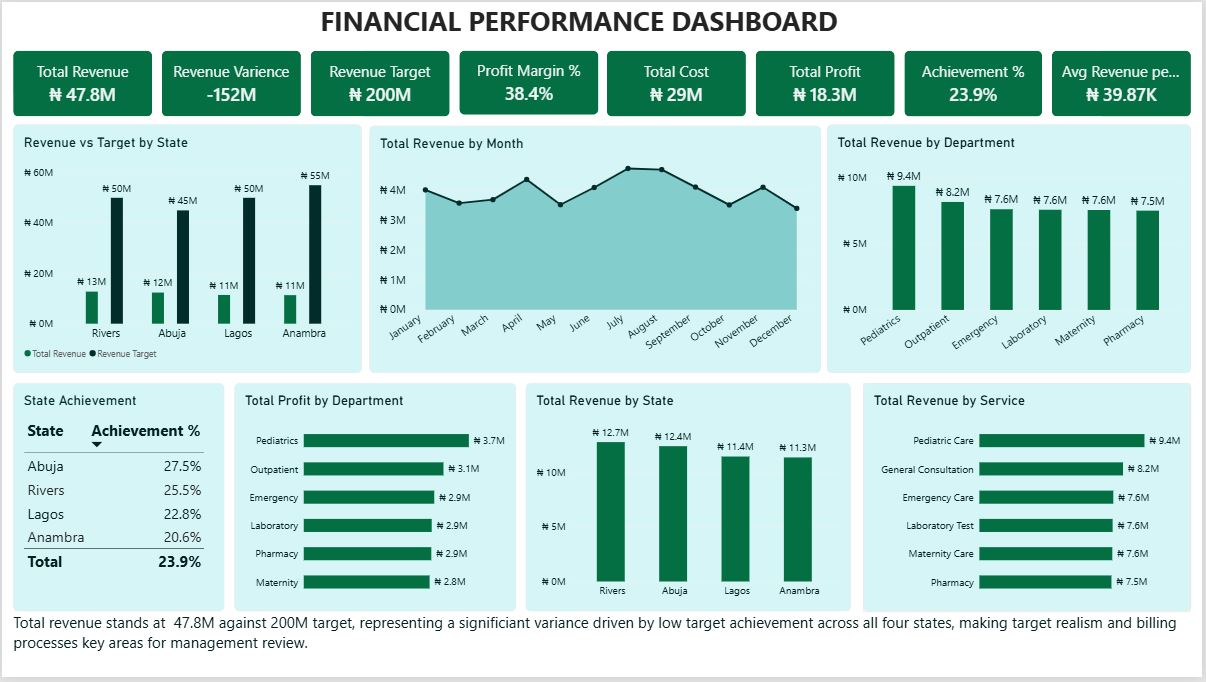

Layout of this report page (visuals, bound fields, positions):
{"tool":"powerbi","page":{"name":"Financial Performance ","canvas":[1920,1080],"ordinal":2},"visuals":[{"type":"clusteredColumnChart","title":" Revenue vs Target by State","fields":{"Category":["State_Targets.State"],"Y":["State_Targets.Total Revenue","State_Targets.Revenue Target"]},"box":[17.5,192.5,557.5,392.5],"z":0},{"type":"areaChart","title":"Total Revenue by Month","fields":{"Category":["Date_Table.Month"],"Y":["State_Targets.Total Revenue"]},"box":[587.5,195,722.5,390],"z":1000},{"type":"columnChart","title":"Total Revenue by State","fields":{"Category":["State_Targets.State"],"Y":["State_Targets.Total Revenue"]},"box":[840,597.5,520,385],"z":2000},{"type":"columnChart","title":"Total Revenue by Department","fields":{"Category":["Patient_Visits.Department"],"Y":["State_Targets.Total Revenue"]},"box":[1320,195,582.5,390],"z":3000},{"type":"barChart","title":"Total Revenue by Service","fields":{"Category":["Patient_Visits.Service"],"Y":["State_Targets.Total Revenue"]},"box":[1377.5,597.5,525,385],"z":4000},{"type":"barChart","title":"Total Profit by Department ","fields":{"Category":["Patient_Visits.Department"],"Y":["State_Targets.Total Profit"]},"box":[372.5,597.5,450,385],"z":5000},{"type":"cardVisual","fields":{"Data":["State_Targets.Revenue Varience"]},"box":[491.6,77.5,222.5,105],"z":6000},{"type":"cardVisual","fields":{"Data":["State_Targets.Revenue Target"]},"box":[253.4,77.5,222.5,105],"z":7000},{"type":"cardVisual","fields":{"Data":["State_Targets.Profit Margin %"]},"box":[729.8,77.5,222.5,105],"z":8000},{"type":"cardVisual","fields":{"Data":["State_Targets.Total Cost"]},"box":[968,77.5,222.5,105],"z":9000},{"type":"cardVisual","fields":{"Data":["State_Targets.Total Profit"]},"box":[1206.1,77.5,222.5,105],"z":10000},{"type":"cardVisual","fields":{"Data":["State_Targets.Avg Revenue per Patient"]},"box":[1680,77.5,222.5,105],"z":11000},{"type":"cardVisual","fields":{"Data":["State_Targets.Achievement %"]},"box":[1444.3,77.5,220,105],"z":12000},{"type":"tableEx","title":"State Achievement ","fields":{"Values":["State_Targets.State","State_Targets.Achievement %"]},"box":[17.5,597.5,337.5,385],"z":13000},{"type":"textbox","box":[185,0,1575,77.5],"z":14000},{"type":"cardVisual","fields":{"Data":["State_Targets.Total Revenue"]},"box":[17.5,77.5,220.2,105],"z":15000},{"type":"textbox","box":[17.5,982.5,1885,97.5],"z":15001}]}

Visuals, with their boxes in screenshot pixels (x1, y1, x2, y2), scaled from the page's 1920x1080 canvas onto the 1206x682 screenshot:
" Revenue vs Target by State" clusteredColumnChart: 11:122:361:369
"Total Revenue by Month" areaChart: 369:123:823:369
"Total Revenue by State" columnChart: 528:377:854:620
"Total Revenue by Department" columnChart: 829:123:1195:369
"Total Revenue by Service" barChart: 865:377:1195:620
"Total Profit by Department " barChart: 234:377:517:620
cardVisual - State_Targets.Revenue Varience: 309:49:449:115
cardVisual - State_Targets.Revenue Target: 159:49:299:115
cardVisual - State_Targets.Profit Margin %: 458:49:598:115
cardVisual - State_Targets.Total Cost: 608:49:748:115
cardVisual - State_Targets.Total Profit: 758:49:897:115
cardVisual - State_Targets.Avg Revenue per Patient: 1055:49:1195:115
cardVisual - State_Targets.Achievement %: 907:49:1045:115
"State Achievement " tableEx: 11:377:223:620
textbox: 116:0:1106:49
cardVisual - State_Targets.Total Revenue: 11:49:149:115
textbox: 11:620:1195:681
